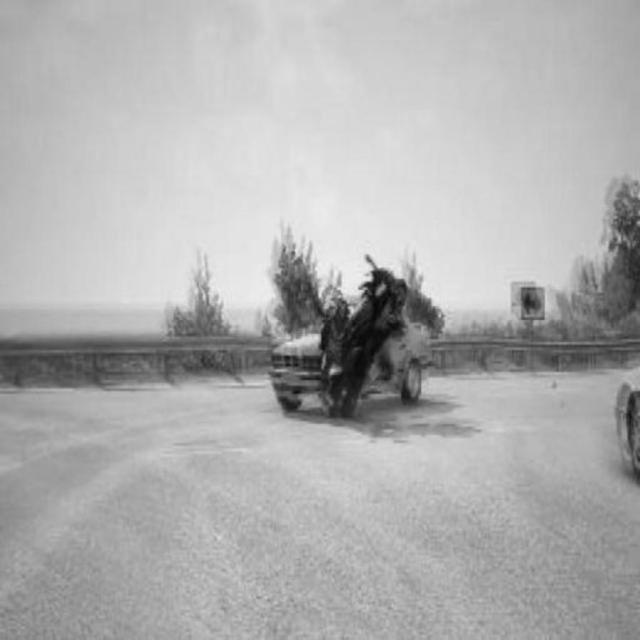accident: (267, 264, 431, 422)
